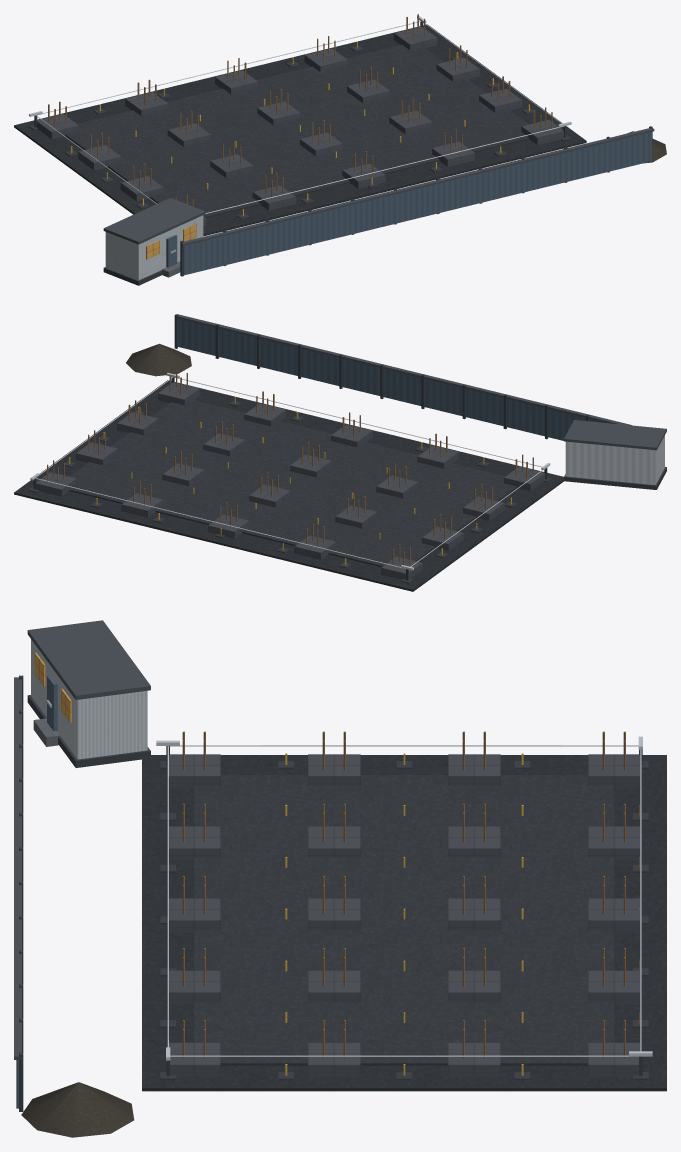
The model's file is trg-2-site.glb.
3 views of the same model, one above another, from view 1: azimuth 30°, elevation 25°; view 2: azimuth 150°, elevation 25°; view 3: azimuth 270°, elevation 25° (orthographic). The views are drawn at different scales.
Bounding box in the file's own units: 40.09 × 3.1 × 24.87.
Materials: 17 (9 with a texture image).
